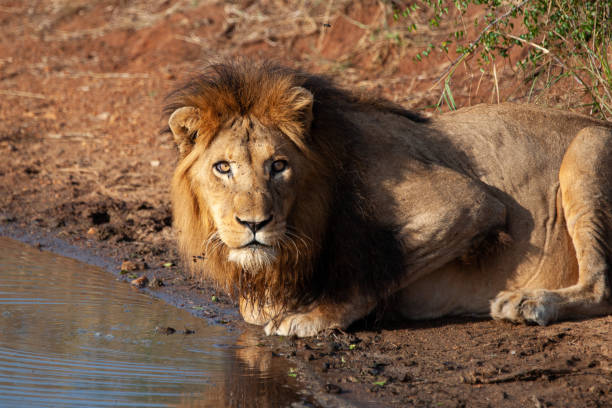lion: (111, 34, 407, 328)
